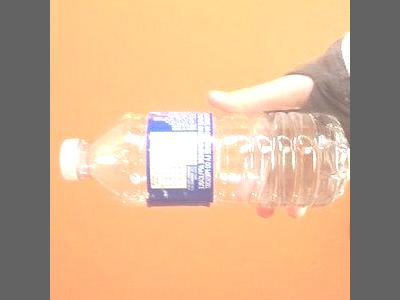bottle: (55, 103, 350, 211)
